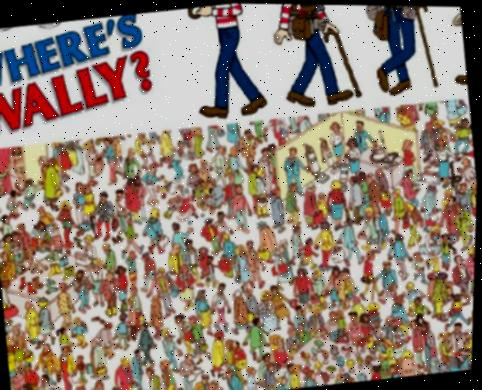waldo: (48, 226, 61, 236)
